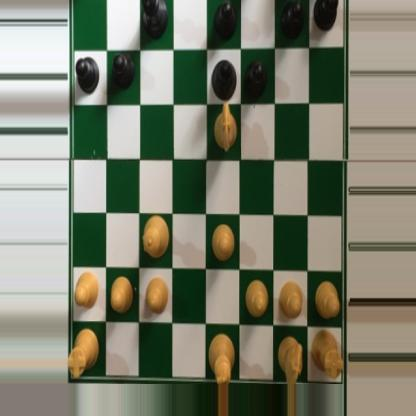black-bishop: (210, 58, 237, 100)
black-king: (138, 0, 169, 41)
black-pawn: (242, 60, 268, 100), (212, 0, 236, 42), (280, 0, 304, 42), (110, 52, 134, 93), (76, 56, 100, 95), (312, 0, 339, 34)
white-king: (207, 330, 236, 385)
white-knight: (277, 334, 304, 385), (212, 100, 236, 157)
white-pawn: (211, 222, 237, 266), (72, 268, 100, 307), (243, 276, 269, 318), (313, 279, 339, 321), (278, 277, 303, 320), (108, 275, 135, 314), (144, 275, 170, 314)
white-queen: (141, 213, 170, 259)
white-rook: (308, 326, 344, 380), (68, 327, 100, 378)
